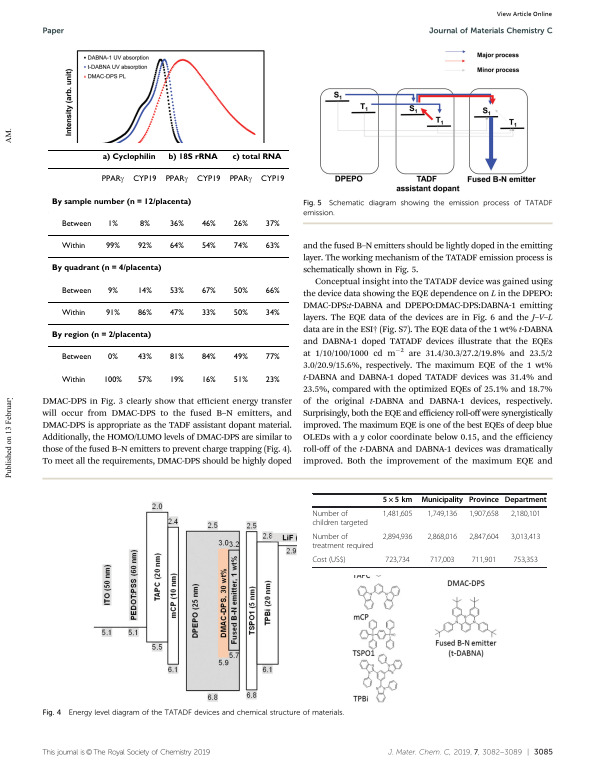borderless: (46, 148, 290, 392), (311, 492, 547, 567)
cell: (50, 197, 192, 207), (312, 532, 374, 550), (312, 509, 369, 527), (50, 264, 162, 273), (50, 331, 152, 340), (100, 164, 124, 186), (164, 164, 188, 186), (228, 164, 252, 186), (101, 153, 156, 162), (167, 153, 218, 162), (231, 153, 282, 162), (420, 496, 464, 505), (504, 496, 547, 505), (426, 509, 458, 519), (468, 509, 500, 519), (312, 555, 347, 564), (382, 509, 413, 519), (510, 509, 541, 519), (468, 496, 500, 505), (426, 532, 458, 541), (468, 532, 500, 541), (382, 496, 413, 505), (382, 532, 413, 541), (510, 532, 541, 541), (60, 219, 92, 227), (60, 286, 92, 294), (60, 353, 92, 361), (384, 555, 411, 564), (512, 555, 539, 564), (429, 555, 455, 564), (471, 555, 497, 564), (60, 308, 86, 316), (60, 375, 86, 383), (132, 175, 157, 183), (196, 175, 221, 183), (260, 175, 285, 183), (60, 242, 86, 249), (102, 375, 122, 383), (168, 219, 184, 227), (200, 219, 216, 227), (232, 219, 248, 227), (264, 219, 280, 227), (136, 286, 152, 294), (168, 286, 184, 294), (200, 286, 216, 294), (232, 286, 248, 294), (264, 286, 280, 294), (104, 308, 120, 316), (136, 308, 152, 316), (168, 308, 184, 316), (200, 308, 216, 316), (232, 308, 248, 316), (264, 308, 280, 316), (136, 353, 152, 361), (168, 353, 184, 361), (200, 353, 216, 361), (232, 353, 248, 361), (264, 353, 280, 361), (136, 375, 152, 383), (168, 375, 184, 383), (200, 375, 216, 383), (232, 375, 248, 383), (264, 375, 280, 383), (104, 242, 120, 249), (136, 242, 152, 249), (168, 242, 184, 249), (200, 242, 216, 249), (232, 242, 248, 249), (264, 242, 280, 249), (107, 219, 118, 227), (139, 219, 150, 227), (107, 286, 118, 294), (107, 353, 118, 361)
